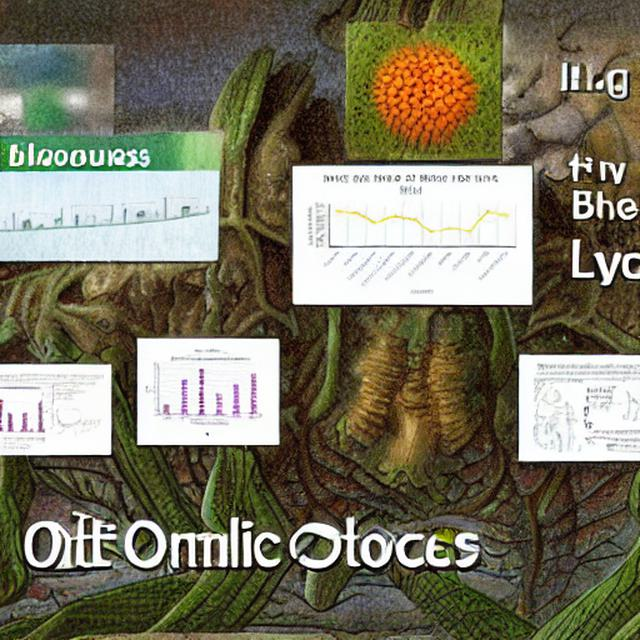Graph: (300, 167, 522, 301), (141, 356, 265, 426), (47, 405, 103, 439)
